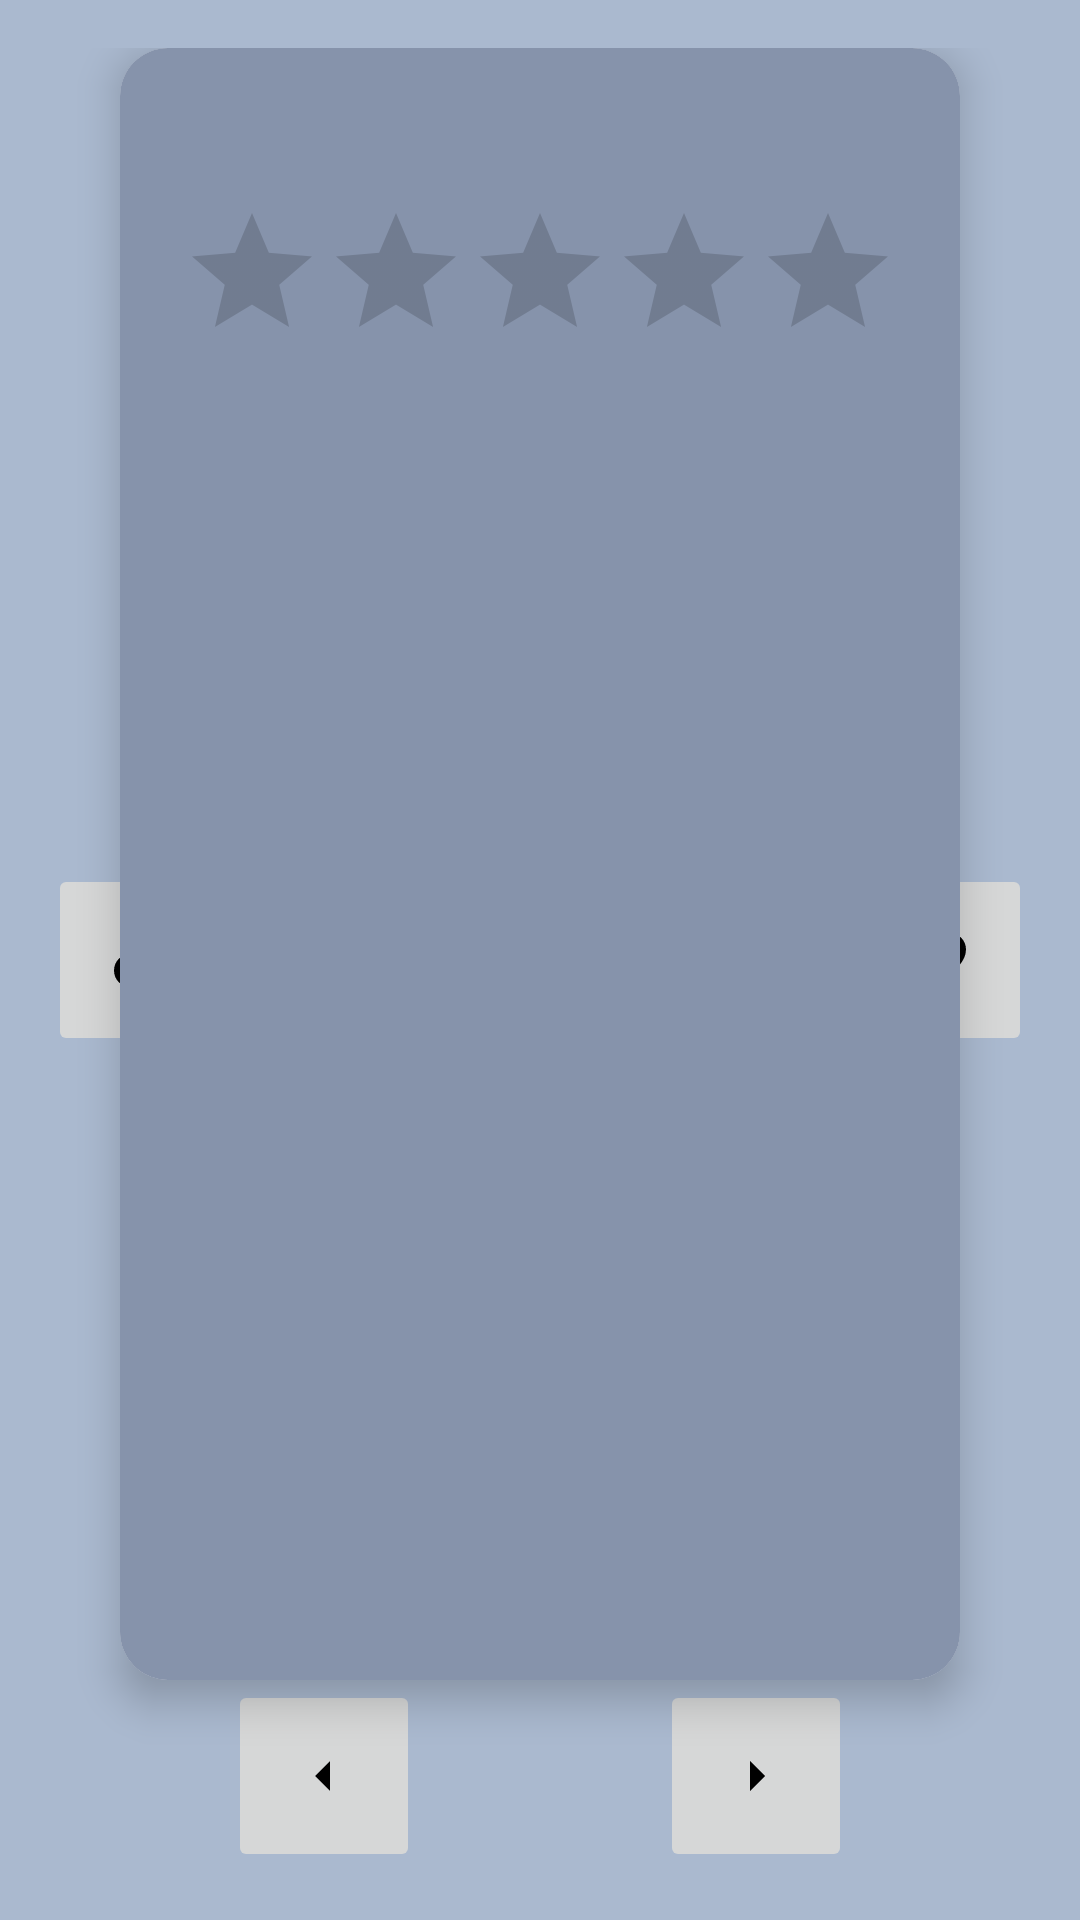

Icons on this 1080 × 1920 Android screen, each with the point to tap as [x,y]:
next: [756,1777]
previous: [324,1777]
